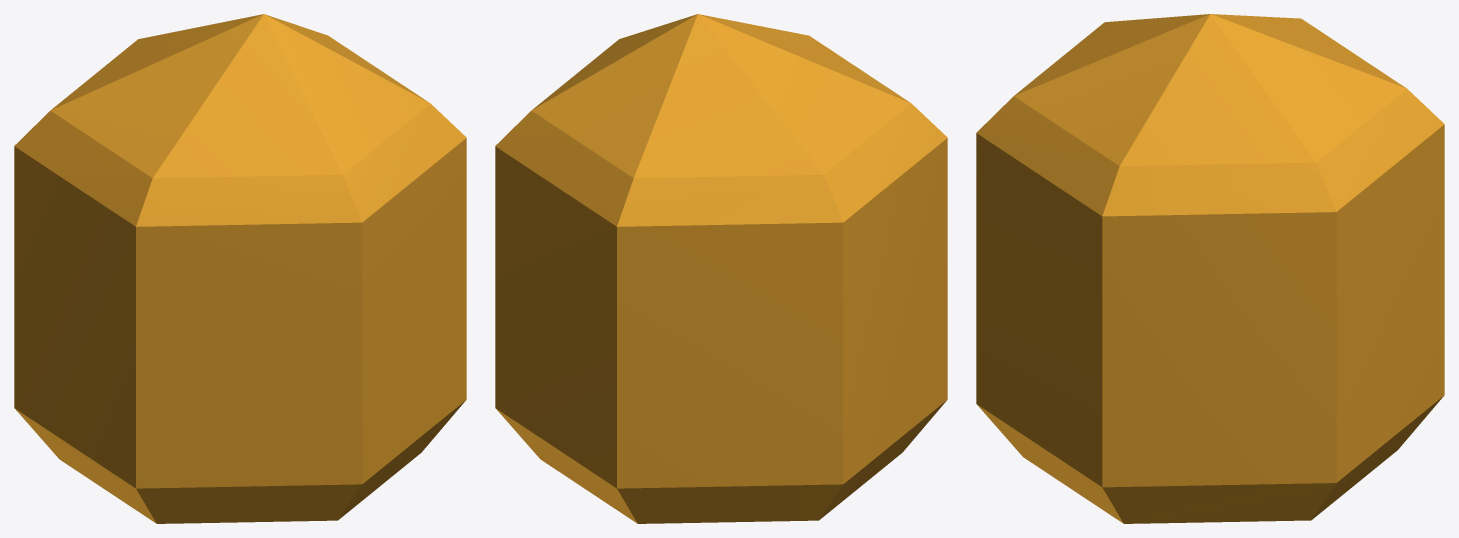
The model's file is altar-gem.glb.
The picture shows the model from 3 angles, left to right: view 1: azimuth 30°, elevation 25°; view 2: azimuth 150°, elevation 25°; view 3: azimuth 270°, elevation 25°; orthographic projection. The views are drawn at different scales.
Parts seen in each view (by area): view 1: Floating amber beacon; view 2: Floating amber beacon; view 3: Floating amber beacon.
Part boxes in pixels (box(x1,y1,x2,y2)): Floating amber beacon: box(14, 14, 466, 523); Floating amber beacon: box(495, 14, 947, 523); Floating amber beacon: box(976, 14, 1444, 523).
Bounding box in the file's own units: 0.2839 × 0.34 × 0.3197.
